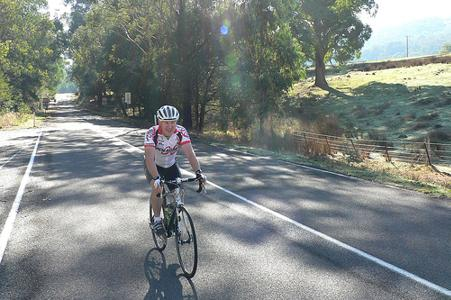person: (144, 106, 205, 242)
